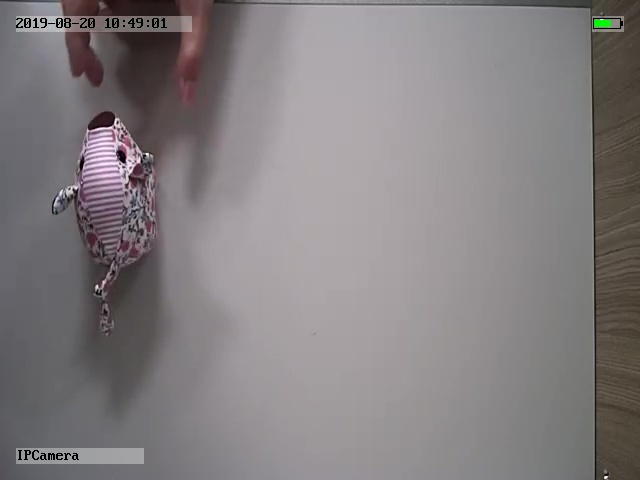pig: (50, 110, 159, 338)
